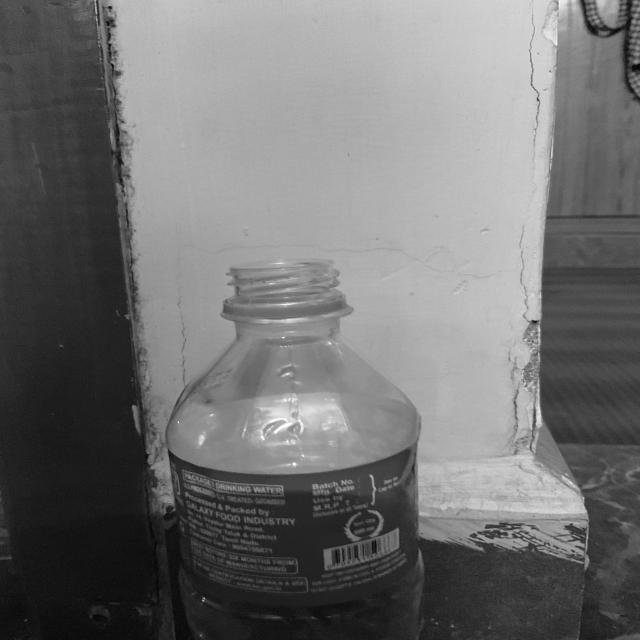open-cap: (225, 259, 348, 316)
